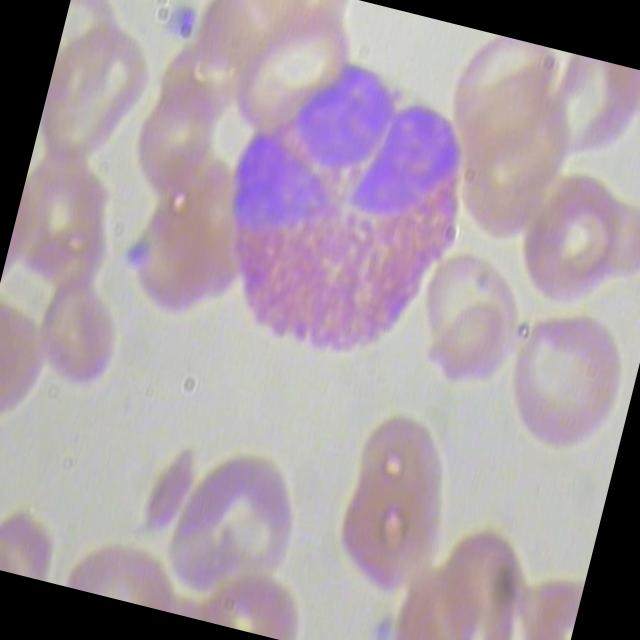Platelets: (162, 3, 202, 49), (625, 105, 640, 164)
RBC: (152, 430, 318, 620), (318, 399, 464, 603), (490, 300, 640, 466), (392, 248, 534, 410), (26, 281, 124, 404), (0, 285, 59, 440)
WBC: (183, 39, 492, 386)
